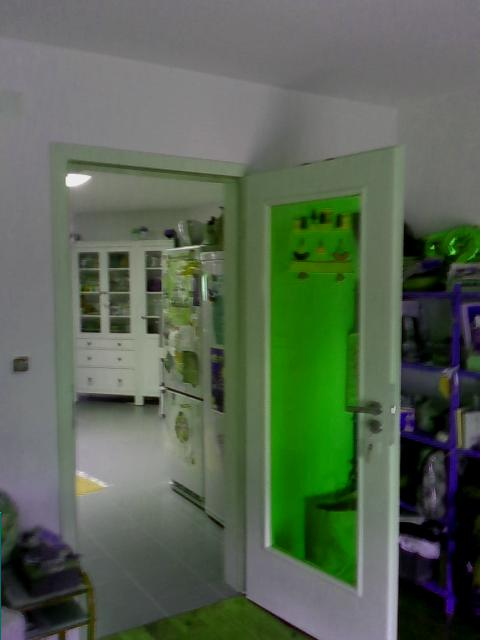open_door: (48, 141, 255, 595)
